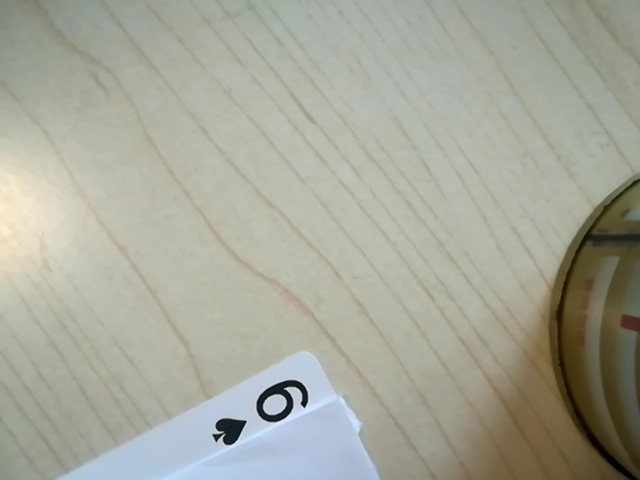ht 6: (199, 377, 329, 454)
